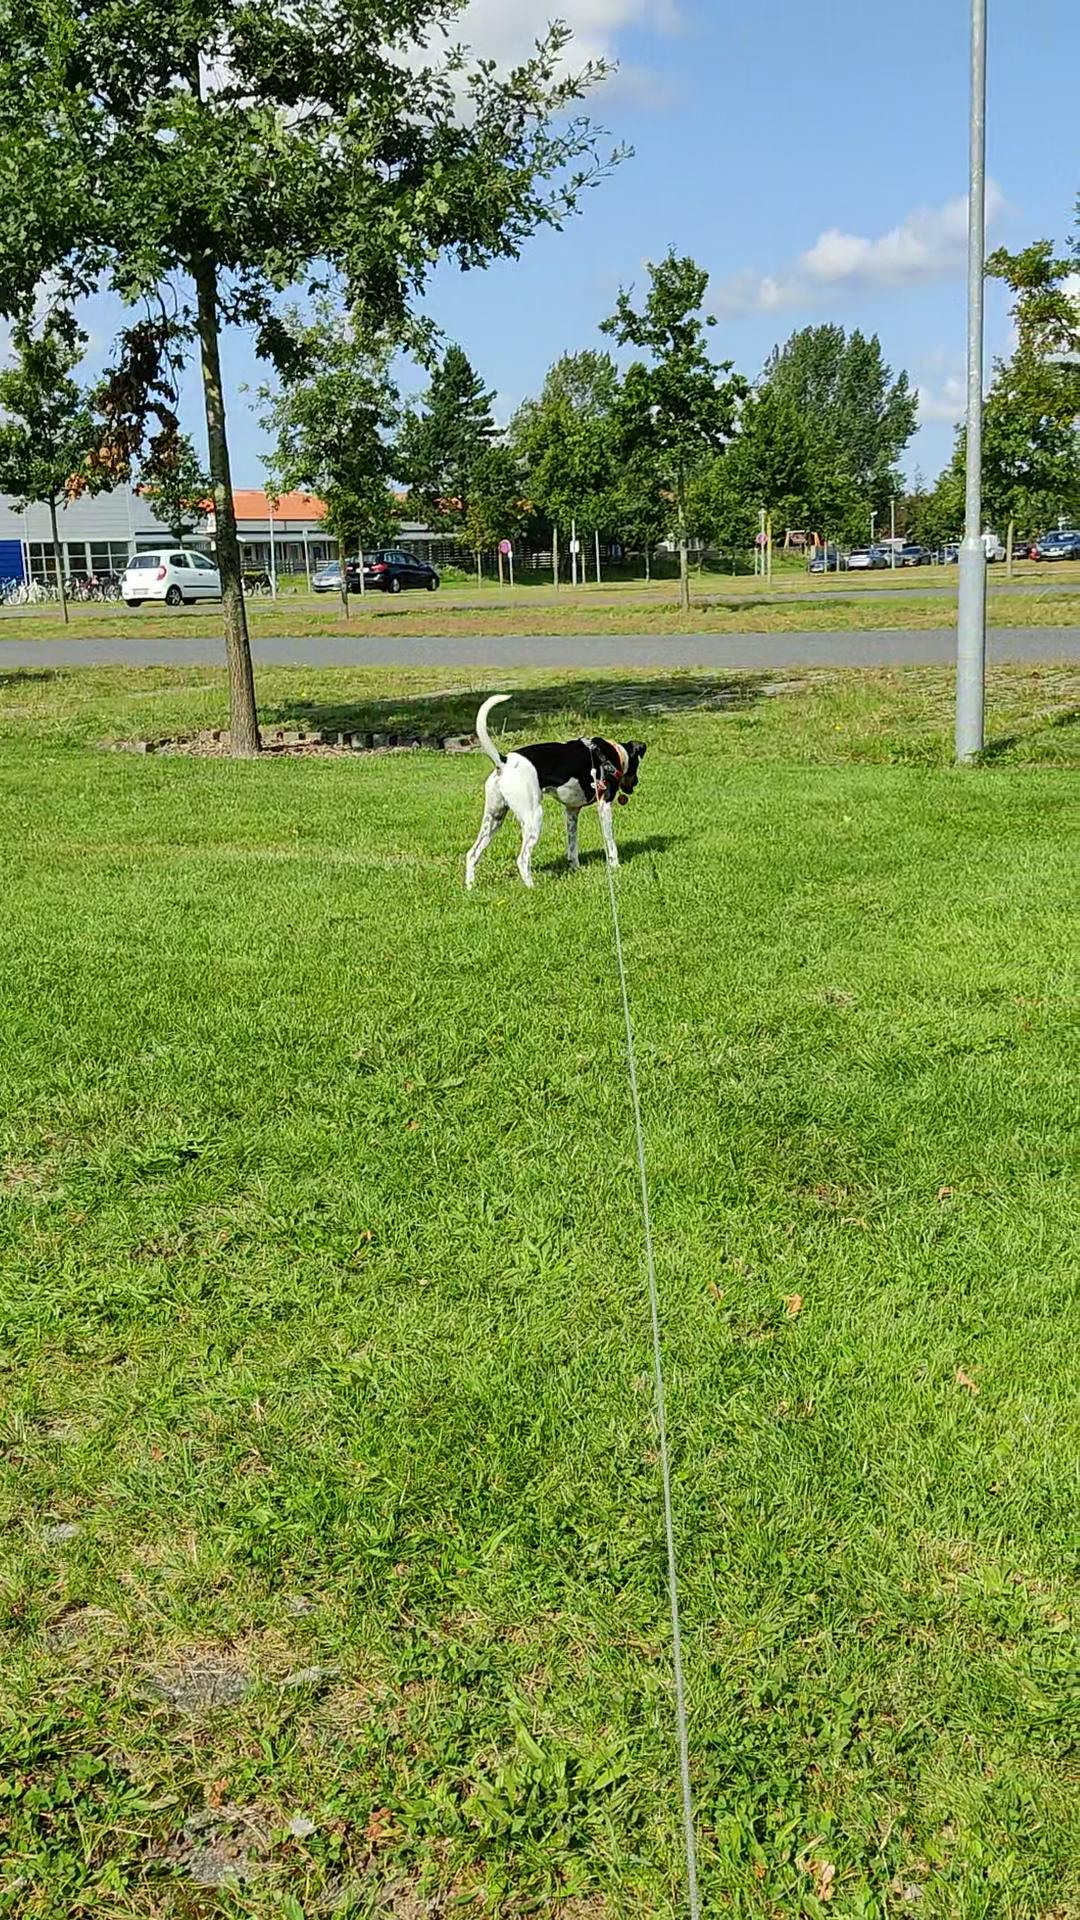Dog: (454, 692, 651, 890)
